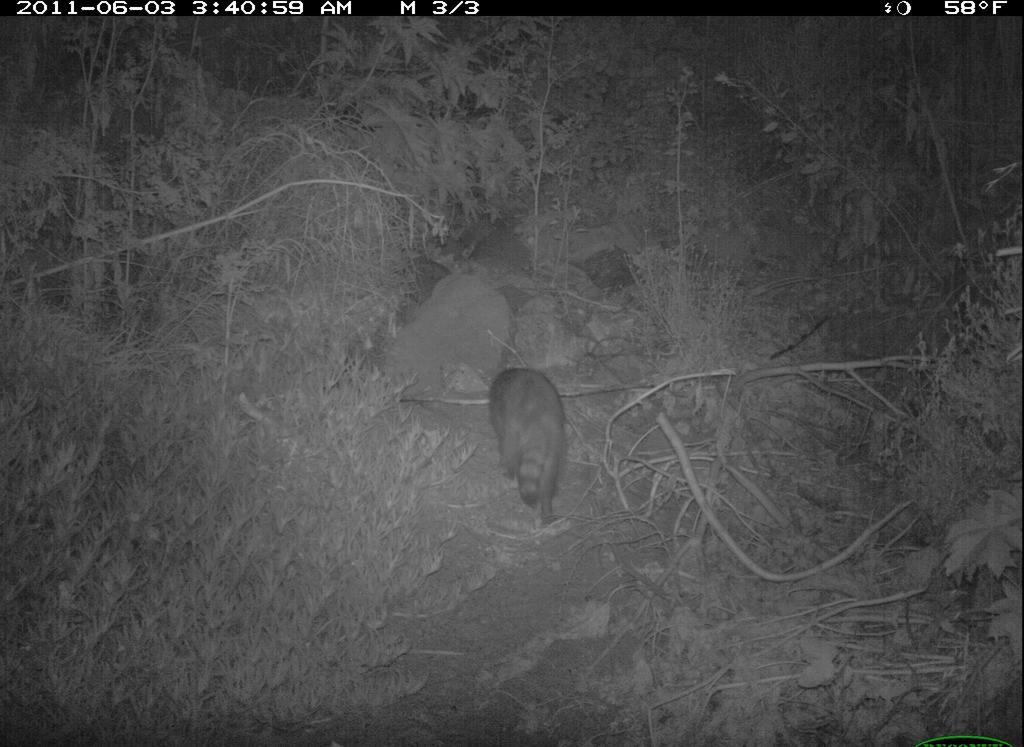raccoon: (478, 355, 584, 532)
